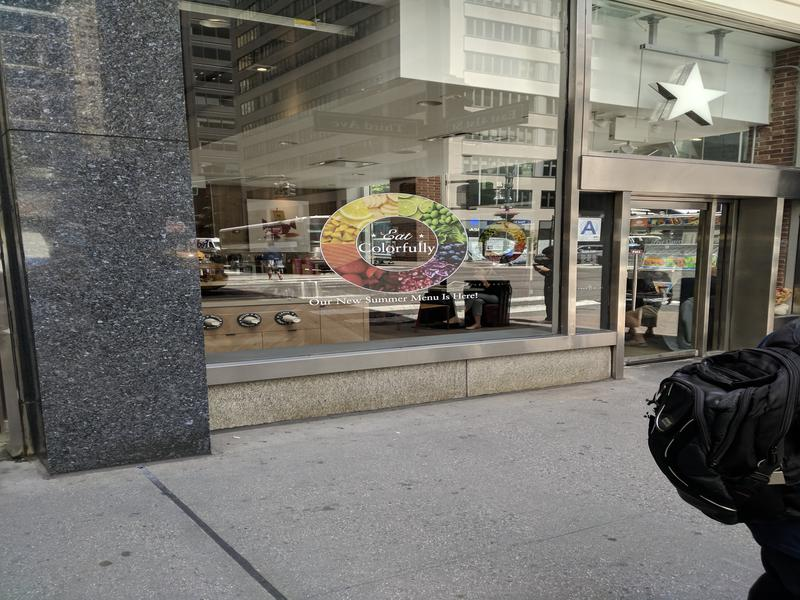door: (622, 190, 708, 355)
